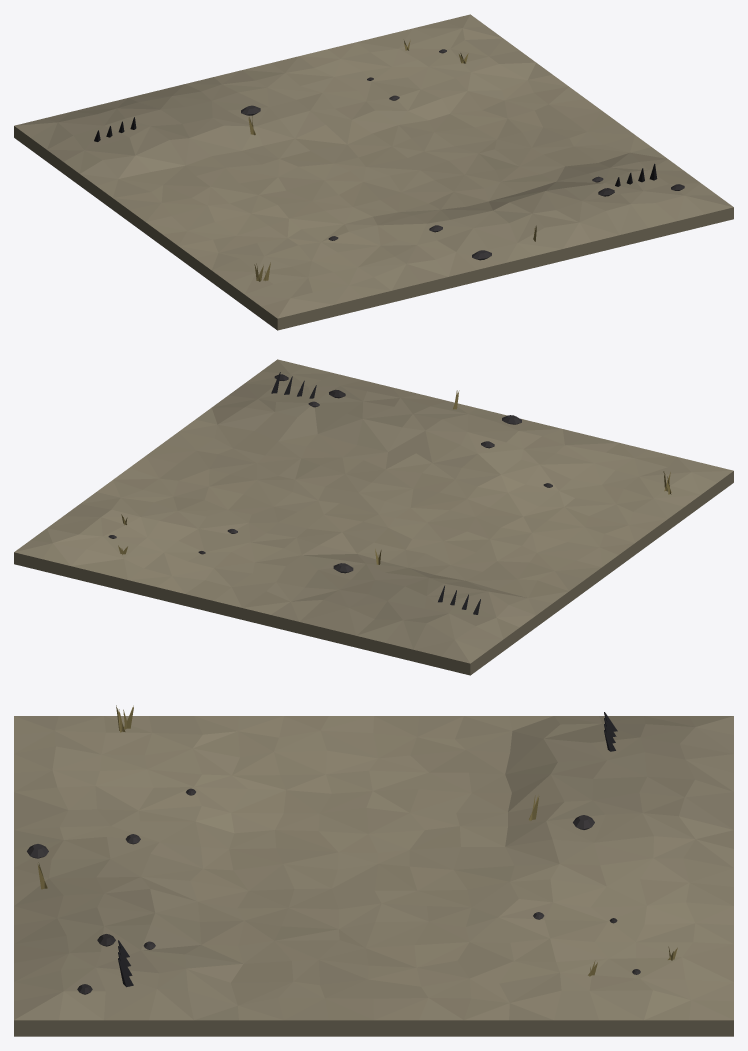
File: CHUNK_glass_ash_desert__black_glass_seam.glb
3 views of the same model, one above another, from view 1: azimuth 30°, elevation 25°; view 2: azimuth 150°, elevation 25°; view 3: azimuth 270°, elevation 25° (orthographic). The views are drawn at different scales.
Parts seen in each view (by area): view 1: CHUNK_glass_ash_desert__black_glass_seam; view 2: CHUNK_glass_ash_desert__black_glass_seam; view 3: CHUNK_glass_ash_desert__black_glass_seam.
Boxes of the visible parts, x1,y1,x2,y2 form: CHUNK_glass_ash_desert__black_glass_seam: (14, 14, 733, 330); CHUNK_glass_ash_desert__black_glass_seam: (14, 359, 733, 675); CHUNK_glass_ash_desert__black_glass_seam: (14, 705, 733, 1036).
Bounding box in the file's own units: 8 × 0.6275 × 8.
